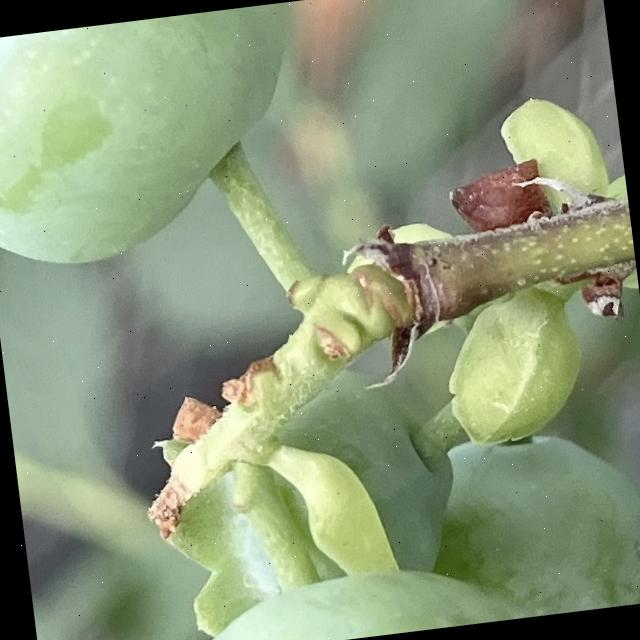Blueberries: (0, 0, 326, 276)
